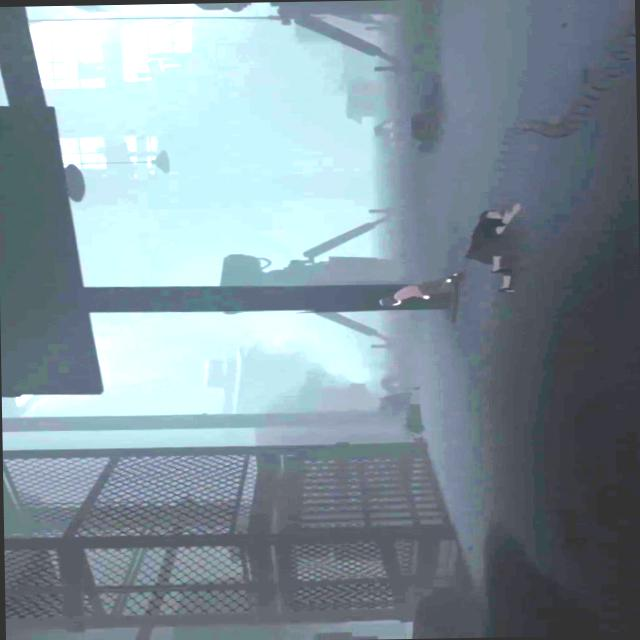boy: (379, 273, 462, 304)
zombie: (464, 205, 517, 290), (410, 72, 442, 152), (404, 386, 425, 442)
